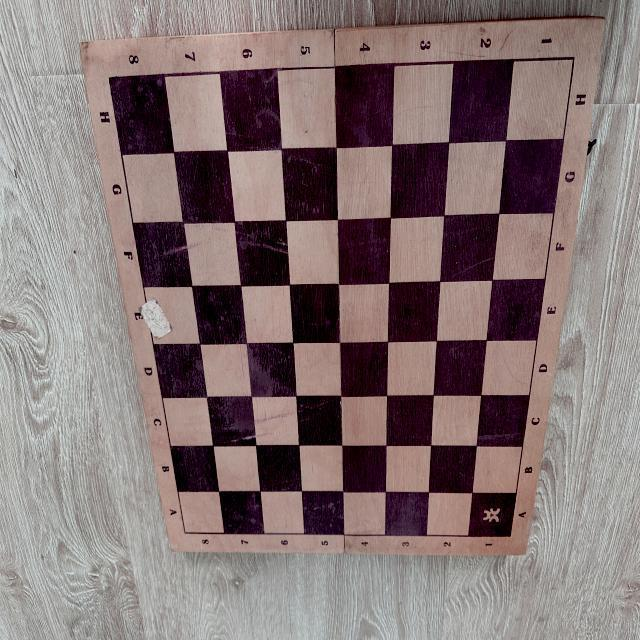chess-table-corners: (504, 528, 517, 544), (179, 525, 189, 541)
